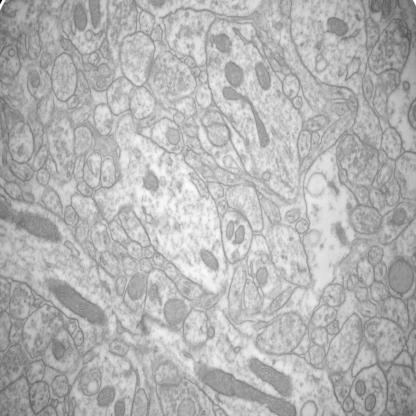mitochondria: (200, 366, 296, 416), (48, 276, 109, 326), (223, 88, 272, 149), (0, 200, 63, 247), (249, 354, 294, 397), (388, 258, 414, 294), (162, 296, 187, 328), (84, 0, 104, 29), (224, 58, 243, 88), (127, 274, 147, 300), (254, 61, 271, 91), (199, 247, 220, 271), (328, 17, 350, 37), (96, 385, 115, 408), (73, 2, 87, 32), (213, 34, 232, 53), (144, 168, 158, 192), (254, 266, 270, 286), (362, 393, 377, 412), (233, 225, 246, 245), (112, 399, 126, 416), (354, 379, 366, 397), (226, 219, 235, 240)
